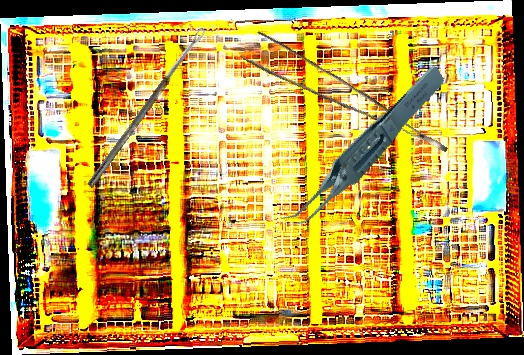Surgical Spoon: (86, 27, 208, 189)
Tissue Forceps: (254, 63, 470, 233), (240, 20, 448, 185)
